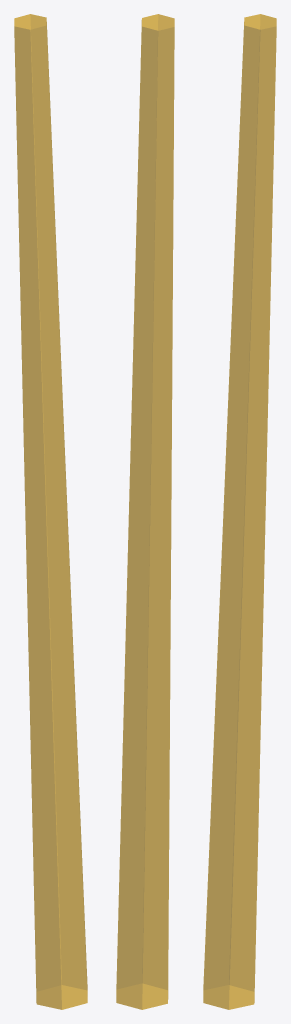
File: SM_Veh_Ship_S_Mast_Middle_01_Collision.fbx
3 views of the same model, side by side, from view 1: azimuth 90°, elevation 25°; view 2: azimuth 210°, elevation 25°; view 3: azimuth 270°, elevation 25° (orthographic).
Parts seen in each view (by area): view 1: SM_Veh_Ship_S_Mast_Middle_01_Collision; view 2: SM_Veh_Ship_S_Mast_Middle_01_Collision; view 3: SM_Veh_Ship_S_Mast_Middle_01_Collision.
Part boxes in pixels (box(x1,y1,x2,y2)): SM_Veh_Ship_S_Mast_Middle_01_Collision: box(14, 14, 87, 1009); SM_Veh_Ship_S_Mast_Middle_01_Collision: box(116, 14, 174, 1009); SM_Veh_Ship_S_Mast_Middle_01_Collision: box(203, 14, 276, 1009).
Bounding box in the file's own units: 112 × 2042 × 139.
